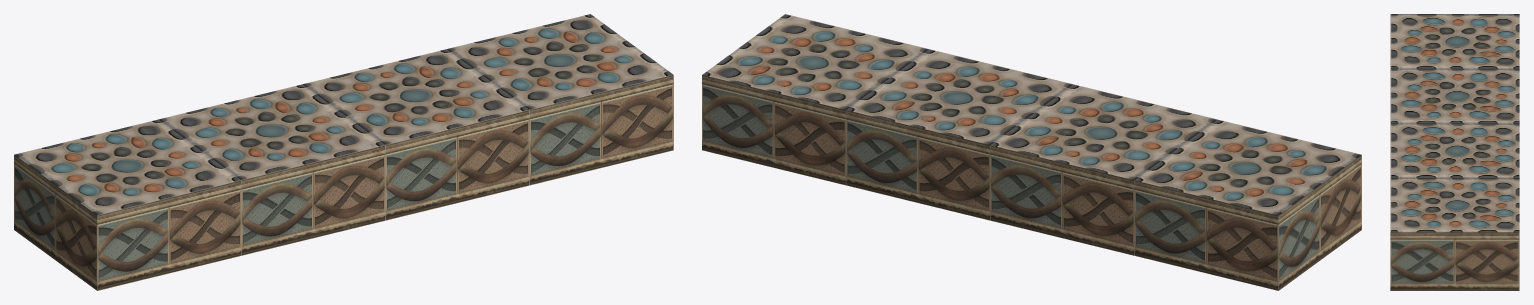
The model's file is DI_009_pattern_block_var04.glb.
3 renders of one model, left to right at view 1: azimuth 30°, elevation 25°; view 2: azimuth 150°, elevation 25°; view 3: azimuth 270°, elevation 25°, orthographic. The views are drawn at different scales.
Parts seen in each view (by area): view 1: Block.002, Block.010, Block.011, Block.012; view 2: Block.002, Block.010, Block.011, Block.012; view 3: Block.012, Block.010, Block.002, Block.011.
Boxes of the visible parts, x1,y1,x2,y2 form: Block.002: (14,119,241,290); Block.010: (158,84,385,255); Block.011: (303,49,529,220); Block.012: (447,14,673,185); Block.002: (1134,119,1361,290); Block.010: (990,84,1217,255); Block.011: (846,49,1072,220); Block.012: (702,14,928,185); Block.012: (1390,177,1519,290); Block.010: (1390,68,1519,123); Block.002: (1390,14,1519,68); Block.011: (1390,123,1519,177).
Bounding box in the file's own units: 3 × 0.375 × 0.75.
1 material, 1 textured.
